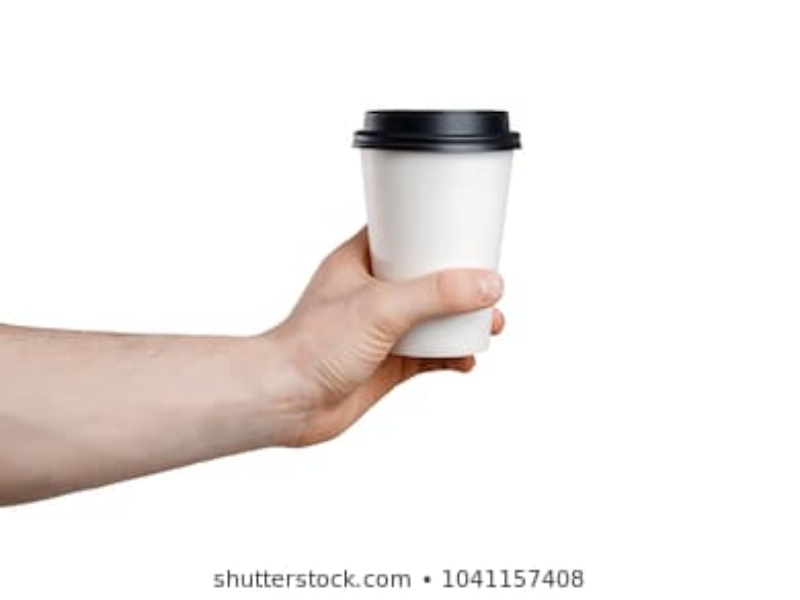coffee-lid: (350, 109, 525, 153)
plastic-cup: (349, 106, 514, 357)
